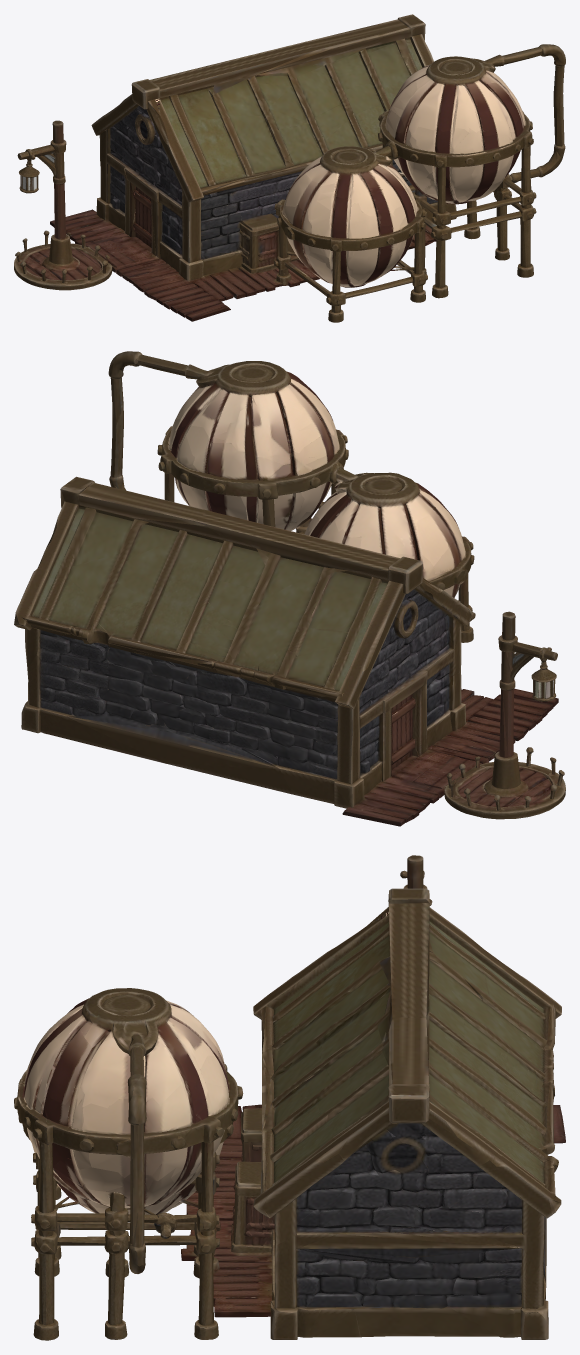
3 renders of one model, top to bottom at view 1: azimuth 30°, elevation 25°; view 2: azimuth 150°, elevation 25°; view 3: azimuth 270°, elevation 25°, orthographic. The views are drawn at different scales.
Bounding box in the file's own units: 1.9 × 0.7971 × 1.32.
1 material, 1 textured.
